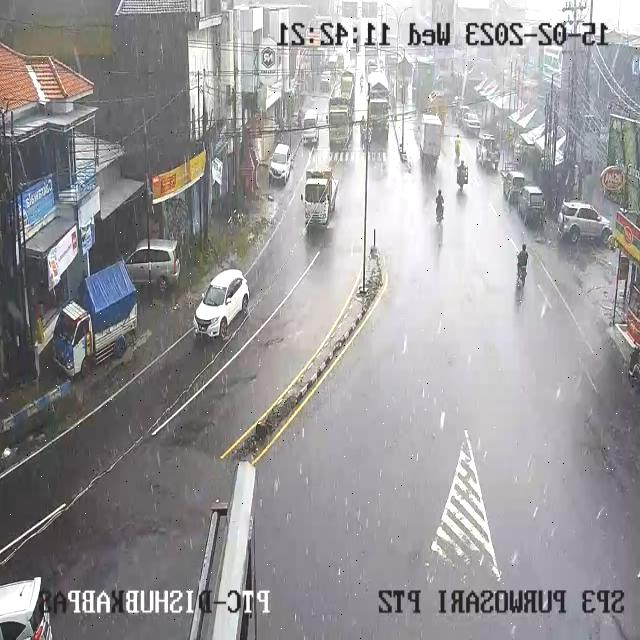Car: (192, 264, 248, 339), (126, 239, 182, 291), (1, 577, 48, 636), (558, 202, 613, 246), (515, 186, 546, 224), (270, 143, 294, 182), (475, 134, 500, 170), (502, 170, 526, 203), (297, 109, 319, 143), (462, 111, 482, 134), (456, 106, 471, 126), (319, 72, 332, 92), (328, 54, 338, 76), (368, 58, 378, 72)
Motorbike: (432, 188, 446, 223), (628, 348, 640, 387), (516, 245, 528, 282), (456, 161, 468, 188), (454, 135, 462, 160), (359, 76, 364, 93)
Truck: (62, 264, 135, 384), (302, 170, 339, 229), (416, 114, 444, 168), (368, 68, 390, 134), (413, 58, 437, 111), (328, 98, 352, 149), (339, 70, 355, 97)
